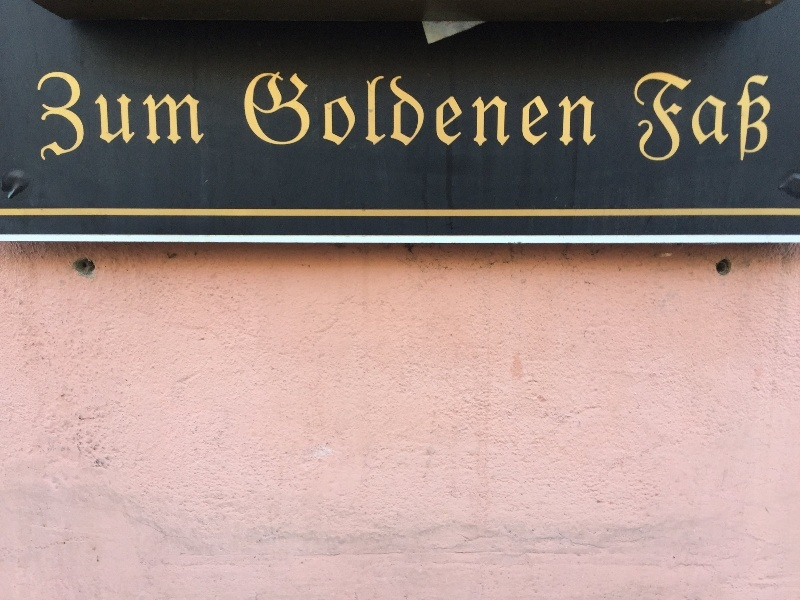text: (49, 70, 64, 163), (65, 70, 80, 163), (81, 70, 96, 163), (97, 70, 112, 163), (113, 70, 128, 163), (129, 70, 144, 163), (145, 70, 160, 163), (161, 70, 176, 163), (177, 70, 192, 163), (641, 70, 656, 163), (657, 70, 672, 163), (673, 70, 688, 163), (689, 70, 704, 163), (705, 70, 720, 163), (721, 70, 736, 163), (737, 70, 752, 163), (753, 70, 768, 163), (257, 69, 272, 153), (273, 69, 288, 153), (289, 69, 304, 153), (305, 69, 320, 153), (321, 69, 336, 153), (337, 69, 352, 153), (353, 69, 368, 153), (369, 69, 384, 153), (385, 69, 400, 153), (401, 69, 416, 153), (417, 69, 432, 153), (433, 69, 448, 153), (449, 69, 464, 153), (465, 69, 480, 153), (481, 69, 496, 153), (497, 69, 512, 153), (513, 69, 528, 153), (529, 69, 544, 153), (545, 69, 560, 153), (561, 69, 576, 153), (577, 69, 592, 153), (193, 70, 206, 163), (37, 70, 48, 163), (246, 69, 256, 153), (634, 70, 640, 163), (593, 69, 597, 153), (769, 70, 772, 163)
